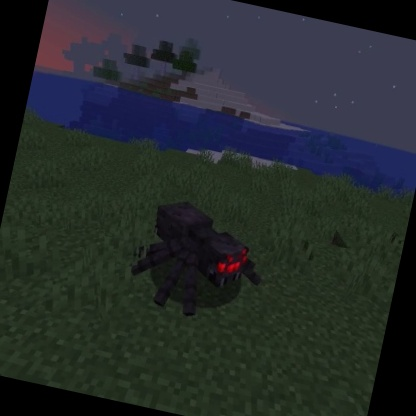spider: (120, 189, 276, 333)
